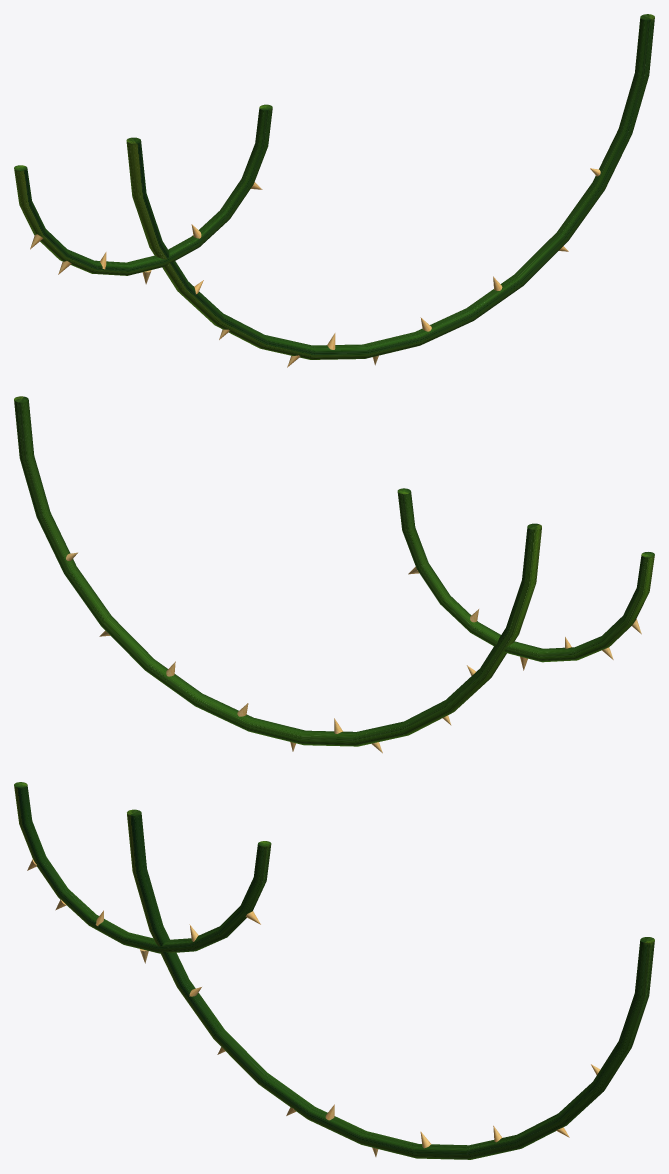
Rendered from VINES.FBX.
3 renders of one model, top to bottom at view 1: azimuth 30°, elevation 25°; view 2: azimuth 150°, elevation 25°; view 3: azimuth 330°, elevation 25°, orthographic.
Parts seen in each view (by area): view 1: Cylinder002, Cylinder001; view 2: Cylinder002, Cylinder001; view 3: Cylinder002, Cylinder001.
Boxes of the visible parts, x1=… form: Cylinder002: x1=126, y1=14, x2=654, y2=359; Cylinder001: x1=14, y1=104, x2=272, y2=275; Cylinder002: x1=14, y1=396, x2=541, y2=746; Cylinder001: x1=397, y1=488, x2=654, y2=662; Cylinder002: x1=127, y1=809, x2=654, y2=1159; Cylinder001: x1=14, y1=782, x2=271, y2=953.
Bounding box in the file's own units: 15001 × 6431 × 379.
Materials: 2 (2 with a texture image).
